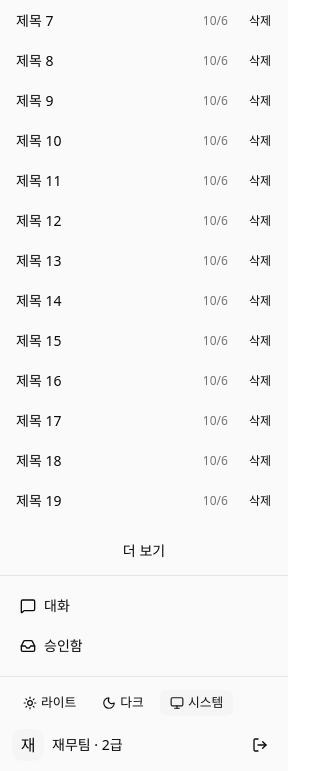
groups, limits, links, current item, pending count and user card
(page scrolled)
Click the button with test id "conversation-more" at [144, 551], box [8,535,280,567]
(page scrolled)
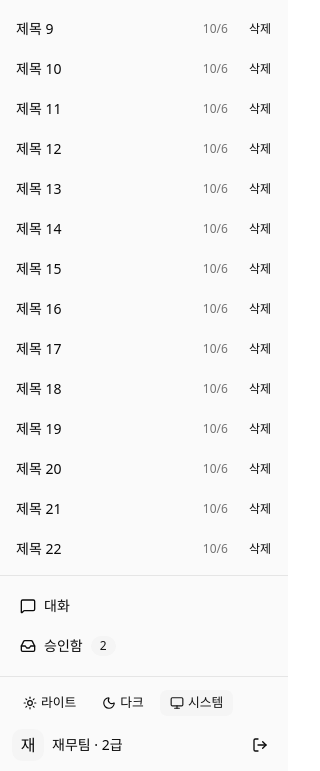
Expected: the text with test id "session-user" reads "재무팀 · 2급", [52,735,123,754]
Expected: the icon with test id "nav-approvals-count" reads "2", [100,637,106,654]
